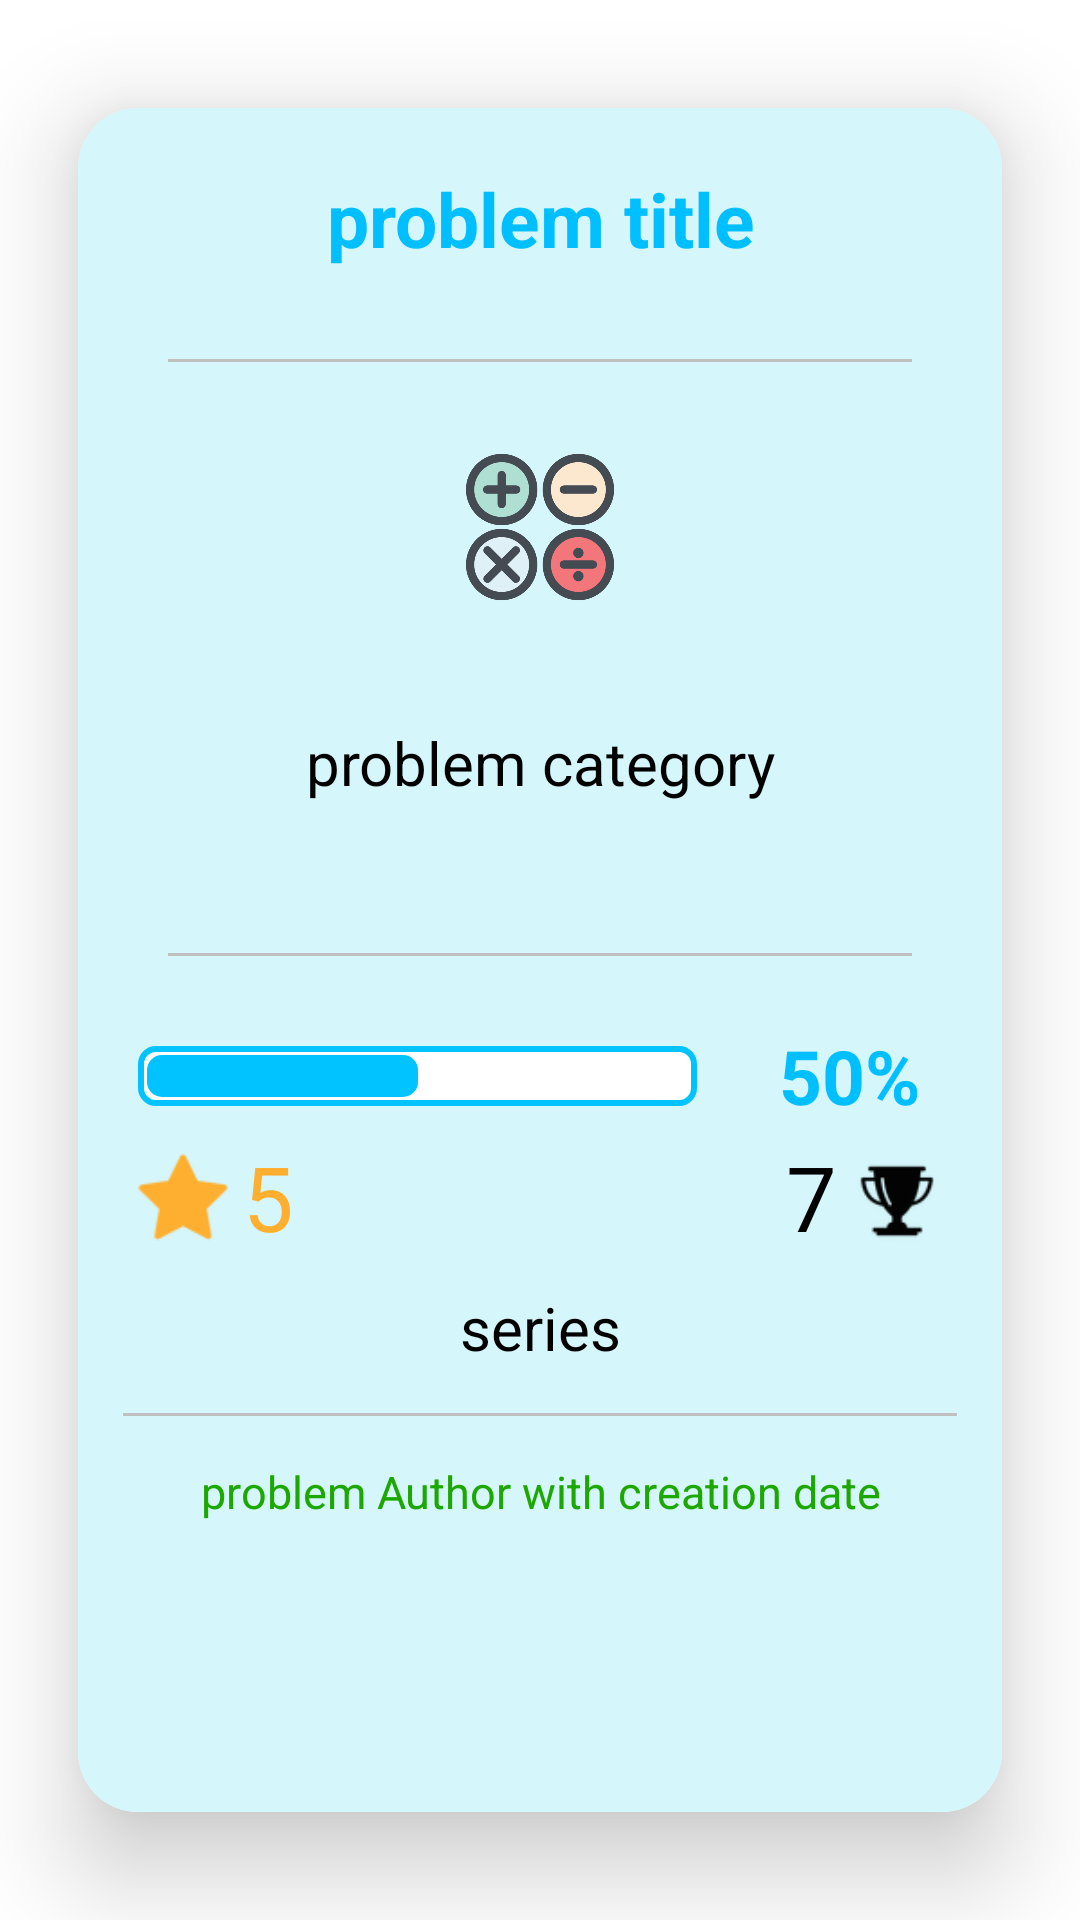

Point at icon controls on the screen. Image size 1080w x 1920h, points as (x=x, y=y).
cat algebra: (x=540, y=527)
star: (x=183, y=1197)
trophy: (x=897, y=1201)
